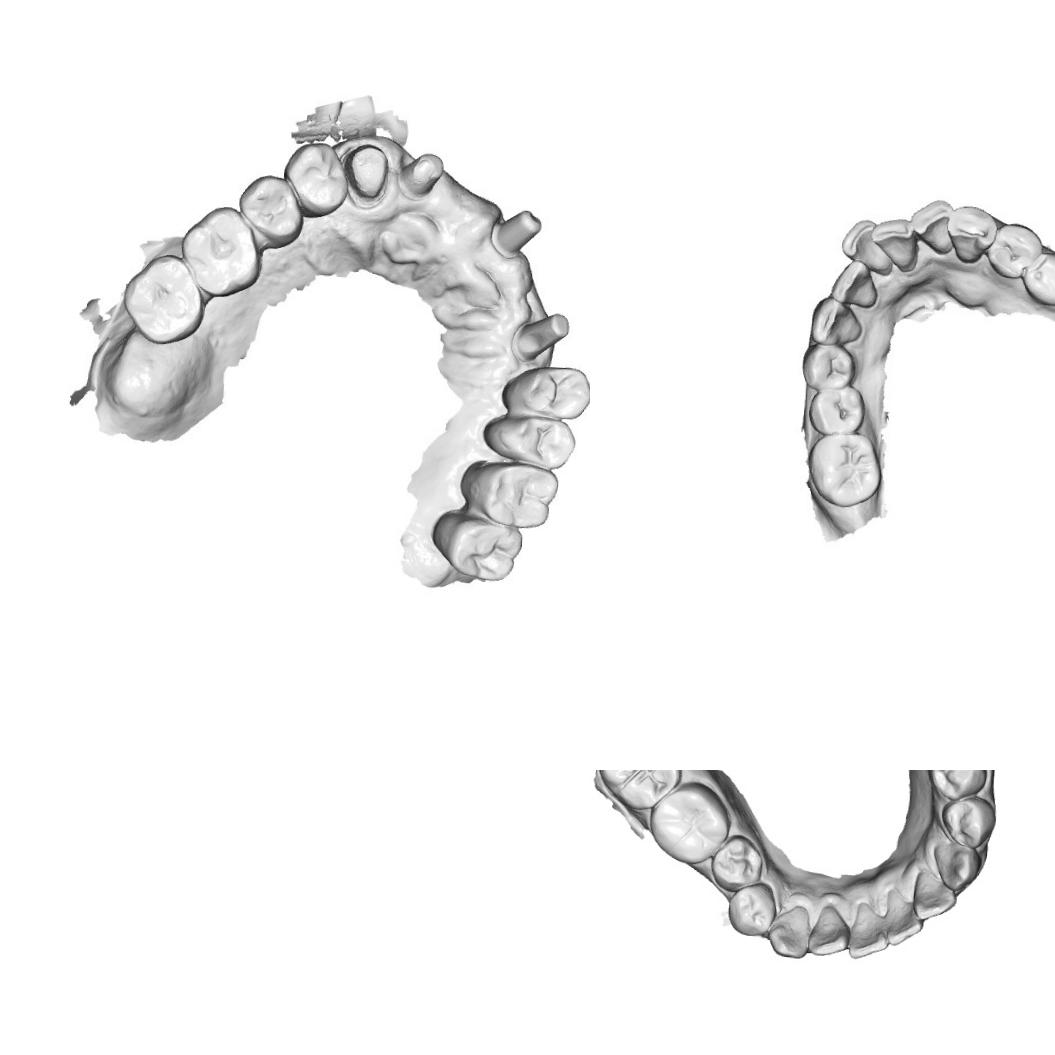abutment: (514, 306, 568, 364), (490, 208, 542, 256), (402, 150, 446, 200)
canine: (804, 293, 868, 348), (945, 202, 997, 268), (928, 840, 982, 892), (765, 902, 812, 960)
crown: (343, 136, 391, 204)
incisor: (838, 213, 892, 274), (868, 214, 920, 274), (907, 196, 954, 258), (846, 898, 890, 961), (880, 888, 926, 947), (910, 868, 958, 923), (805, 902, 851, 958), (832, 260, 881, 306)
molar: (120, 252, 212, 350), (428, 499, 527, 586), (176, 201, 262, 300), (646, 778, 732, 866), (454, 456, 560, 522), (805, 431, 883, 511), (595, 770, 685, 812)
premolar: (279, 140, 356, 219), (233, 164, 305, 246), (481, 414, 574, 467), (507, 365, 590, 422), (984, 222, 1046, 280), (708, 832, 765, 894), (938, 792, 996, 850), (806, 384, 868, 438), (724, 878, 778, 938), (798, 341, 853, 392), (926, 770, 989, 802), (1021, 252, 1055, 307)
